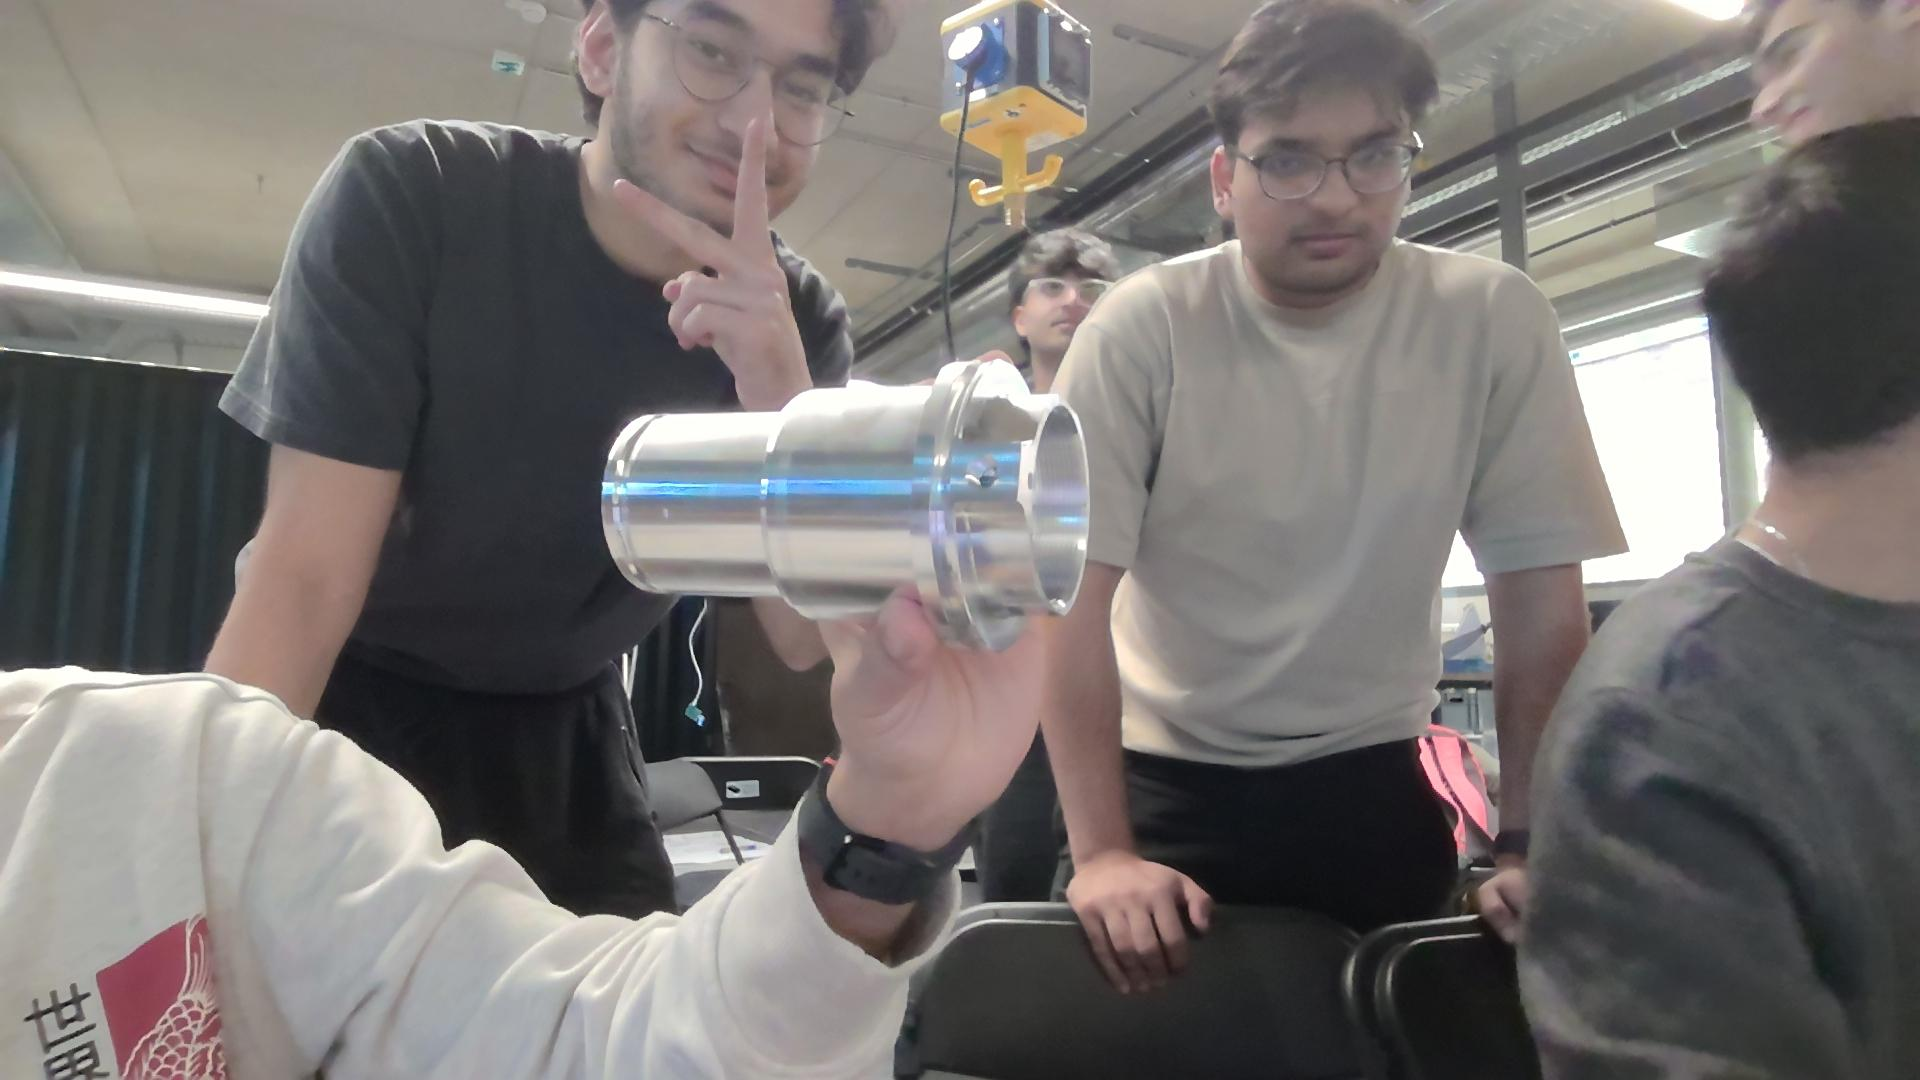objects: (600, 357, 1096, 667)
